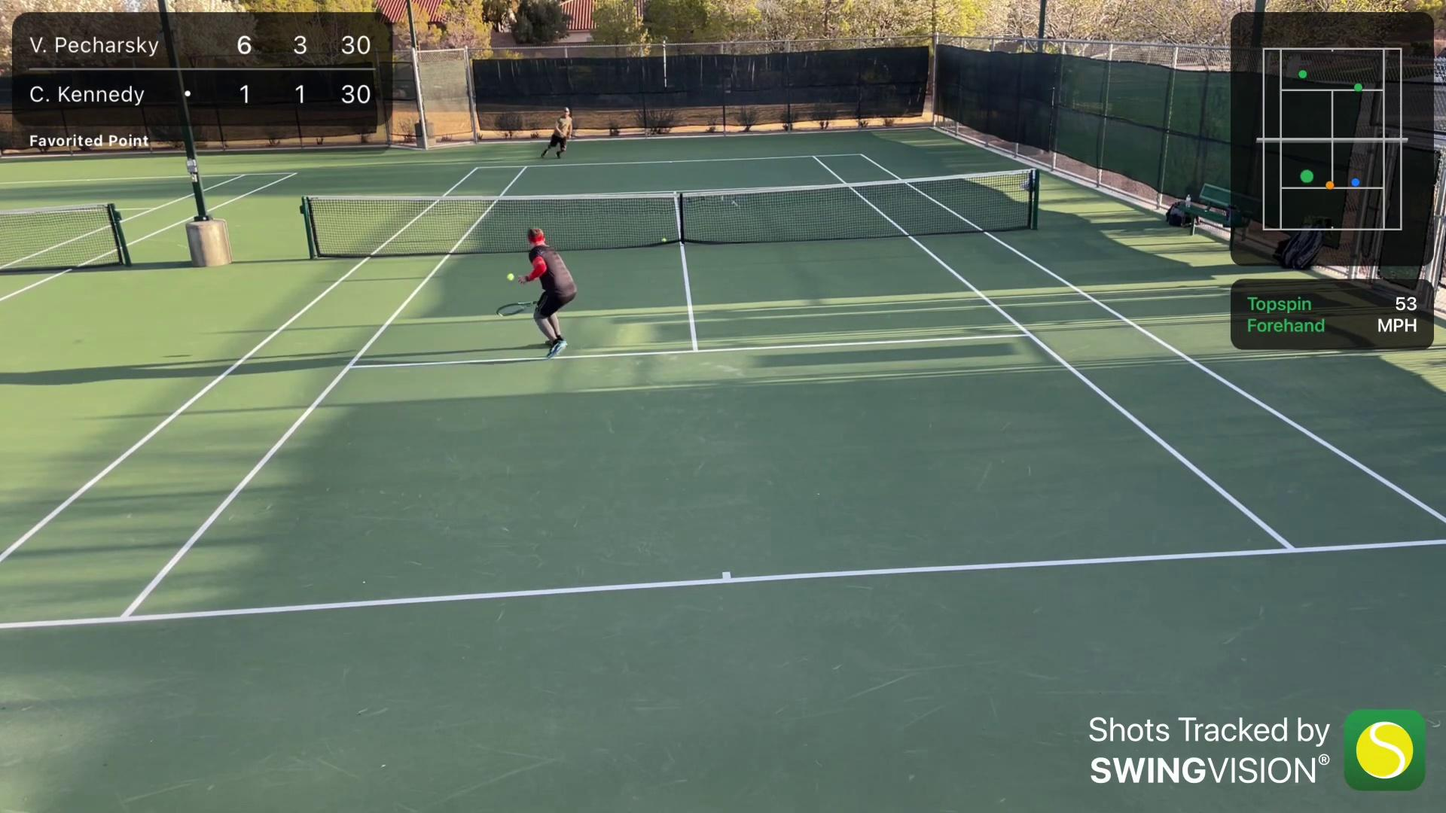ball: (505, 273, 517, 282), (659, 236, 667, 244)
